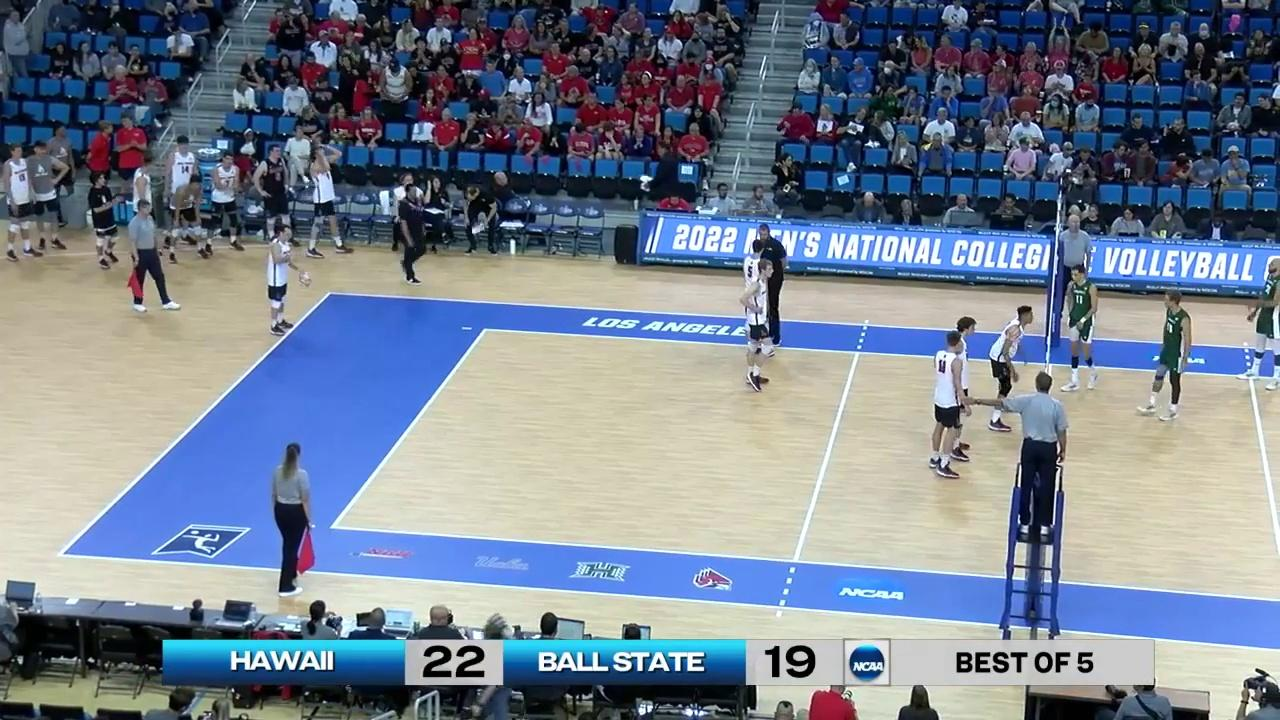player: (1139, 293, 1191, 420), (929, 331, 972, 477), (987, 304, 1034, 429), (262, 226, 310, 336), (1241, 258, 1280, 388), (945, 317, 977, 463), (741, 261, 776, 394), (1064, 265, 1099, 392), (741, 240, 774, 358)
refree: (996, 371, 1067, 534), (271, 446, 314, 596), (126, 202, 180, 316), (1057, 215, 1093, 324)
